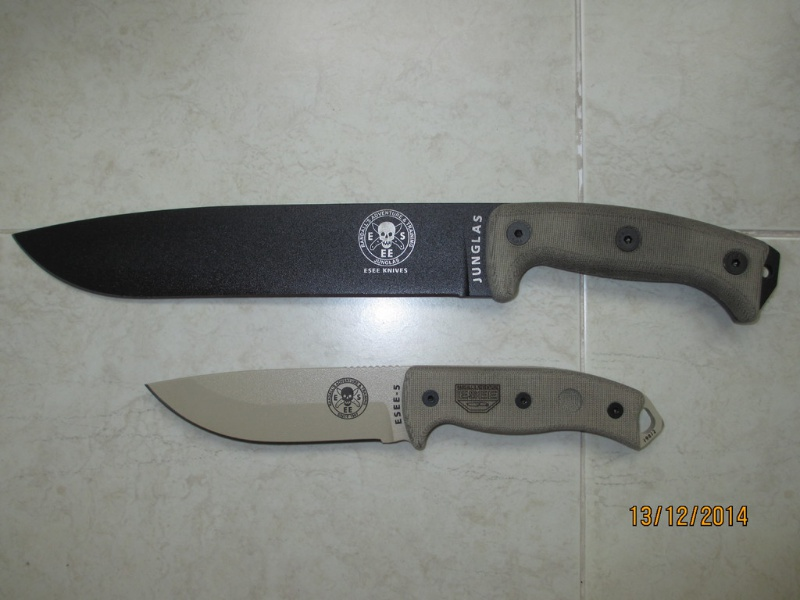knife: (6, 197, 784, 328), (138, 361, 669, 458)
